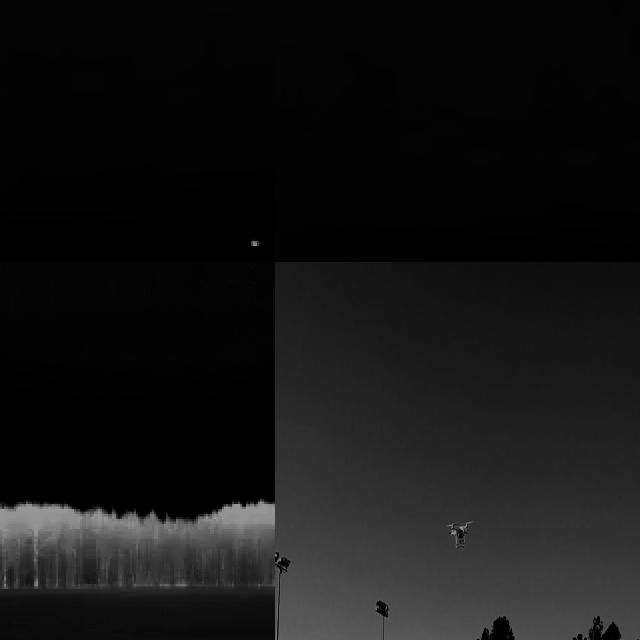0: (239, 226, 267, 261)
drone: (449, 517, 474, 546)
